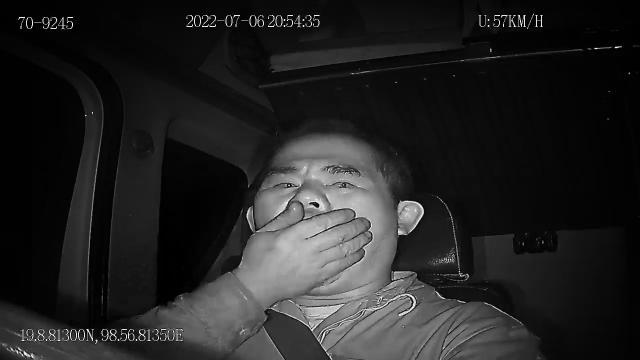SafeDriving: (318, 162, 367, 192), (322, 170, 366, 193), (265, 173, 302, 194)
Seatbelt: (260, 307, 334, 360)
